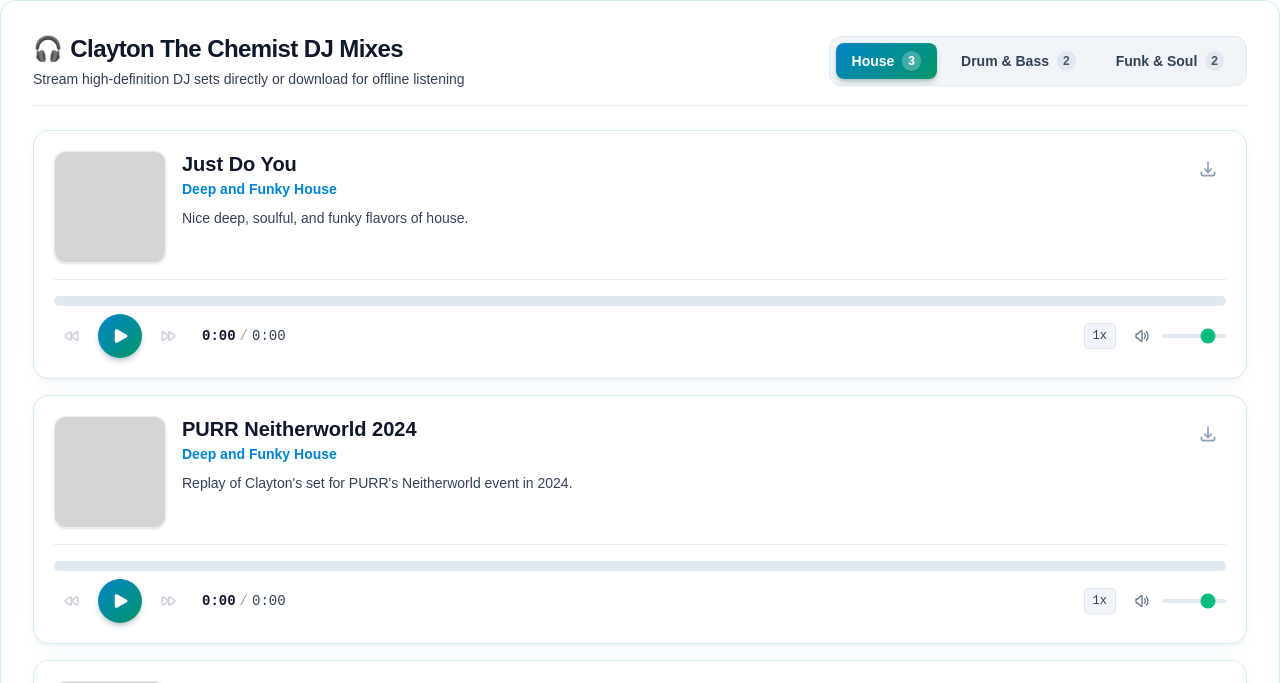
Scenario: TabbedDJMixes & DJMixGrid components › switches active tab and displays matching mixes on click
This screenshot has width=1280, height=683.
Expected: the heading "Just Do You" is shown, [182,153,297,175]
// Click Drum & Bass tab
Click the text "Drum & Bass": (1005, 61) [961,51,1049,71]
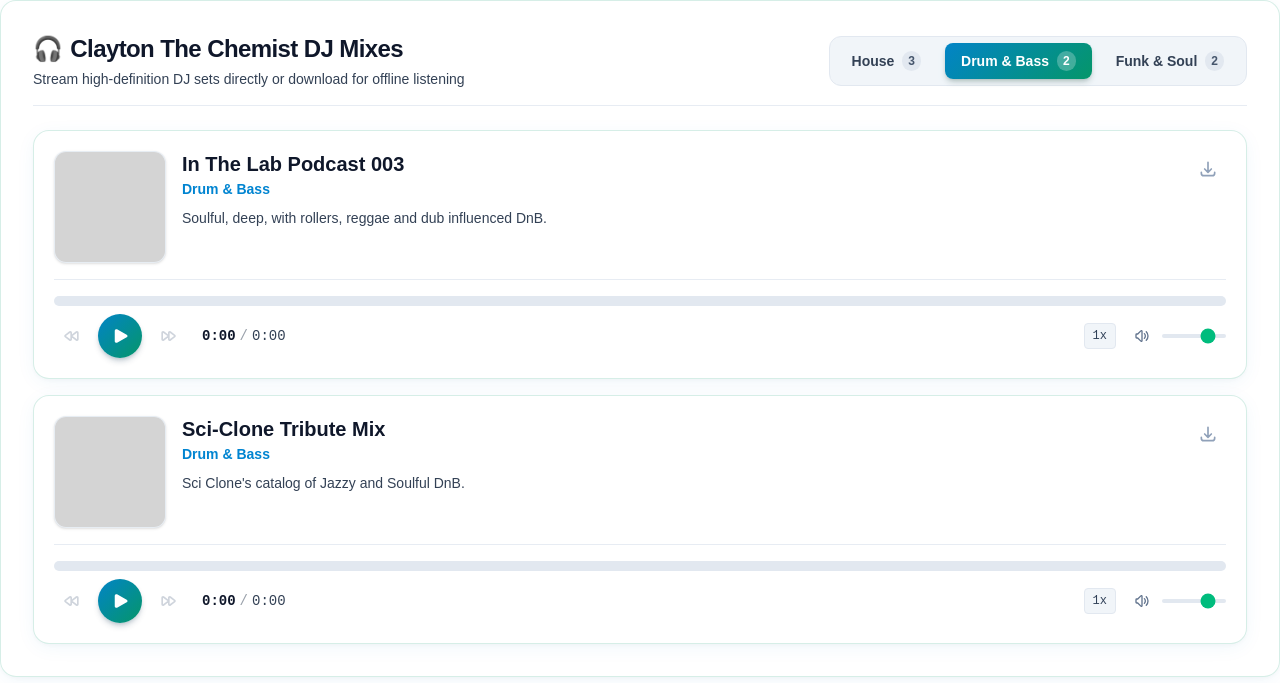
Now the heading "In The Lab Podcast 003" is shown, box [182,151,404,178]
